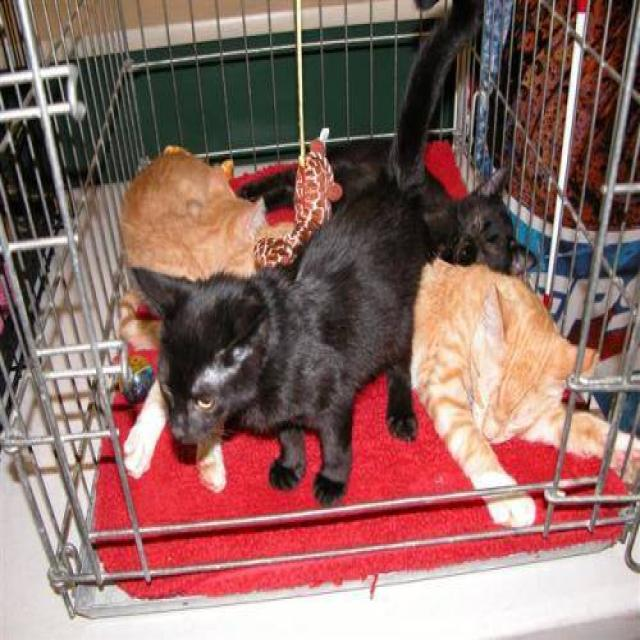cat: (410, 253, 638, 529), (116, 144, 272, 481)
